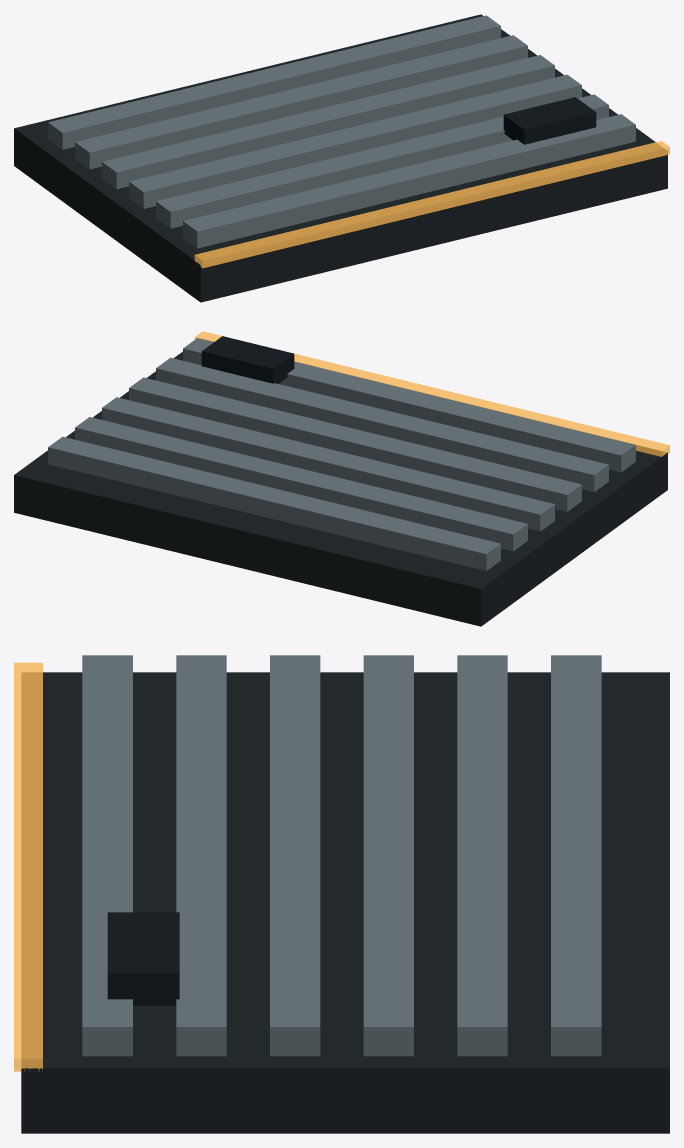
File: hp_room_cyber_cable_pit_cover.glb
3 renders of one model, top to bottom at view 1: azimuth 30°, elevation 25°; view 2: azimuth 150°, elevation 25°; view 3: azimuth 270°, elevation 25°, orthographic. The views are drawn at different scales.
Visible parts, largest first — view 1: pit_frame, grate_bar_5, grate_bar_1, grate_bar_2, grate_bar_0, grate_bar_3, grate_bar_4, edge_amber, lift_handle; view 2: pit_frame, grate_bar_0, grate_bar_1, grate_bar_3, grate_bar_2, grate_bar_4, grate_bar_5, edge_amber, lift_handle; view 3: pit_frame, grate_bar_0, grate_bar_1, grate_bar_2, grate_bar_3, grate_bar_4, grate_bar_5, edge_amber, lift_handle.
Part boxes in pixels (<box>): pit_frame: <box>14,14,667,302</box>; grate_bar_5: <box>183,114,635,248</box>; grate_bar_1: <box>75,35,527,169</box>; grate_bar_2: <box>102,55,554,189</box>; grate_bar_0: <box>48,15,500,149</box>; grate_bar_3: <box>129,74,581,208</box>; grate_bar_4: <box>156,94,608,228</box>; edge_amber: <box>194,141,669,268</box>; lift_handle: <box>503,97,596,144</box>; pit_frame: <box>14,351,667,626</box>; grate_bar_0: <box>48,436,500,570</box>; grate_bar_1: <box>75,417,527,551</box>; grate_bar_3: <box>129,377,581,511</box>; grate_bar_2: <box>102,397,554,531</box>; grate_bar_4: <box>156,357,608,491</box>; grate_bar_5: <box>183,338,635,472</box>; edge_amber: <box>194,331,669,456</box>; lift_handle: <box>201,336,294,383</box>; pit_frame: <box>21,672,669,1133</box>; grate_bar_0: <box>551,655,601,1056</box>; grate_bar_1: <box>457,655,507,1056</box>; grate_bar_2: <box>363,655,413,1056</box>; grate_bar_3: <box>270,655,320,1056</box>; grate_bar_4: <box>176,655,226,1056</box>; grate_bar_5: <box>82,655,132,1056</box>; edge_amber: <box>14,662,42,1071</box>; lift_handle: <box>107,912,179,1005</box>.
Bounding box in the file's own units: 1.3 × 0.185 × 0.91.
